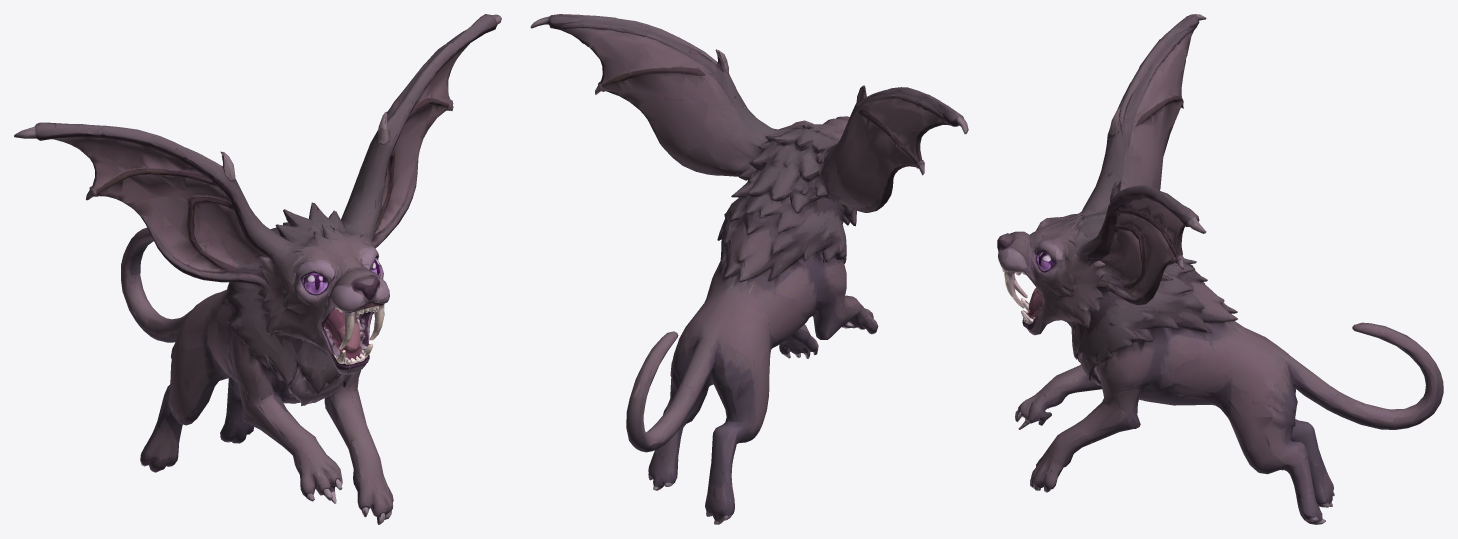
3 views of the same model, side by side, from view 1: azimuth 30°, elevation 25°; view 2: azimuth 150°, elevation 25°; view 3: azimuth 270°, elevation 25° (orthographic). The views are drawn at different scales.
Visible parts, largest first — view 1: Mesh_0; view 2: Mesh_0; view 3: Mesh_0.
Part boxes in pixels (x1,y1,x2,y2): Mesh_0: [14, 14, 501, 524]; Mesh_0: [530, 14, 968, 524]; Mesh_0: [997, 14, 1443, 524].
Bounding box in the file's own units: 1.9 × 1.69 × 1.67.
Materials: 1 (1 with a texture image).
